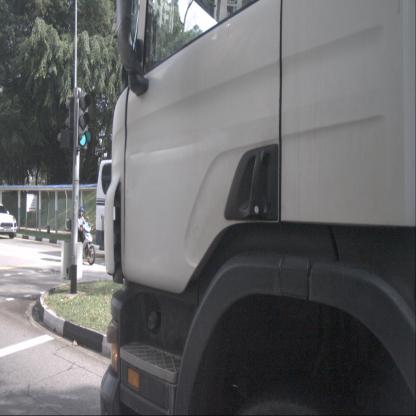vehicle-car: (95, 158, 192, 264), (0, 202, 17, 239)
vehicle-motorcycle: (66, 206, 95, 265)
vehicle-truck: (99, 0, 416, 416)
